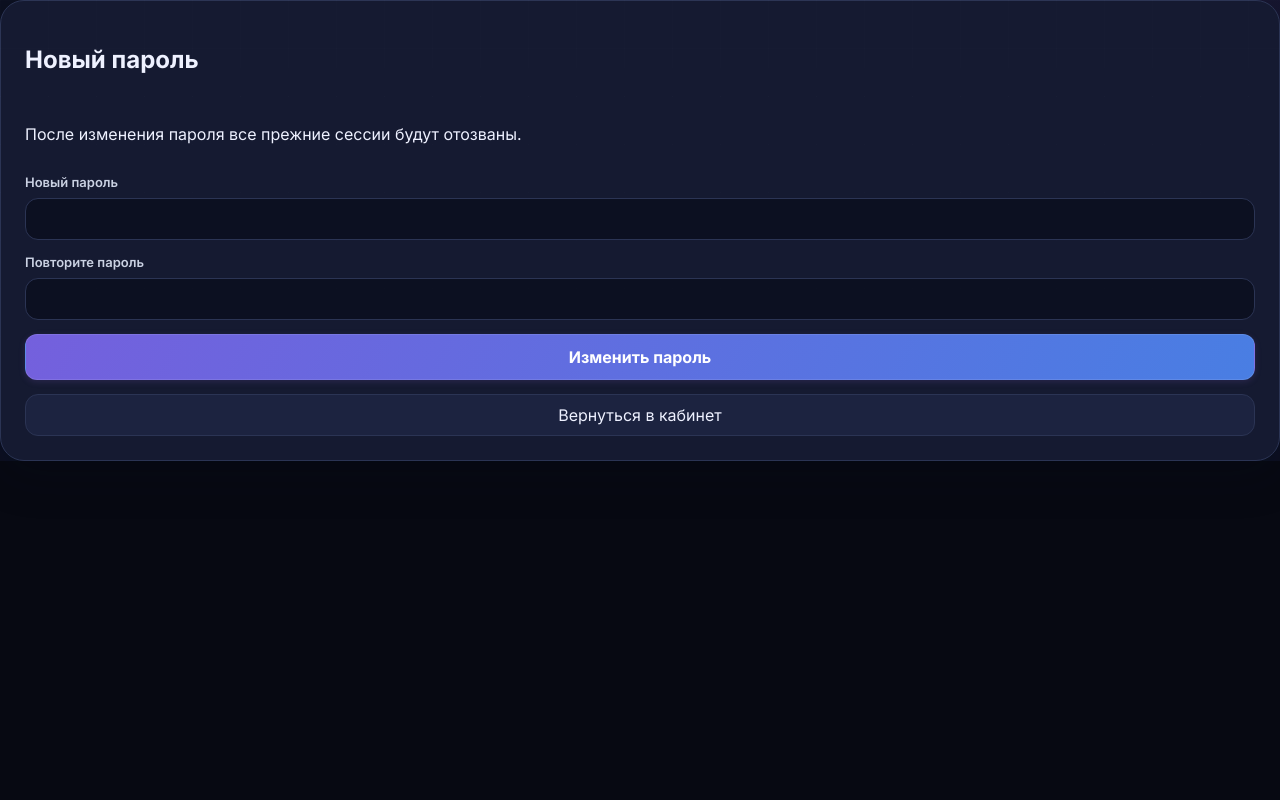
it: blocks mismatched passwords and removes inputs after success
In the password field labelled "Новый пароль": [640, 219] box [25,198,1255,240], type "new-password"
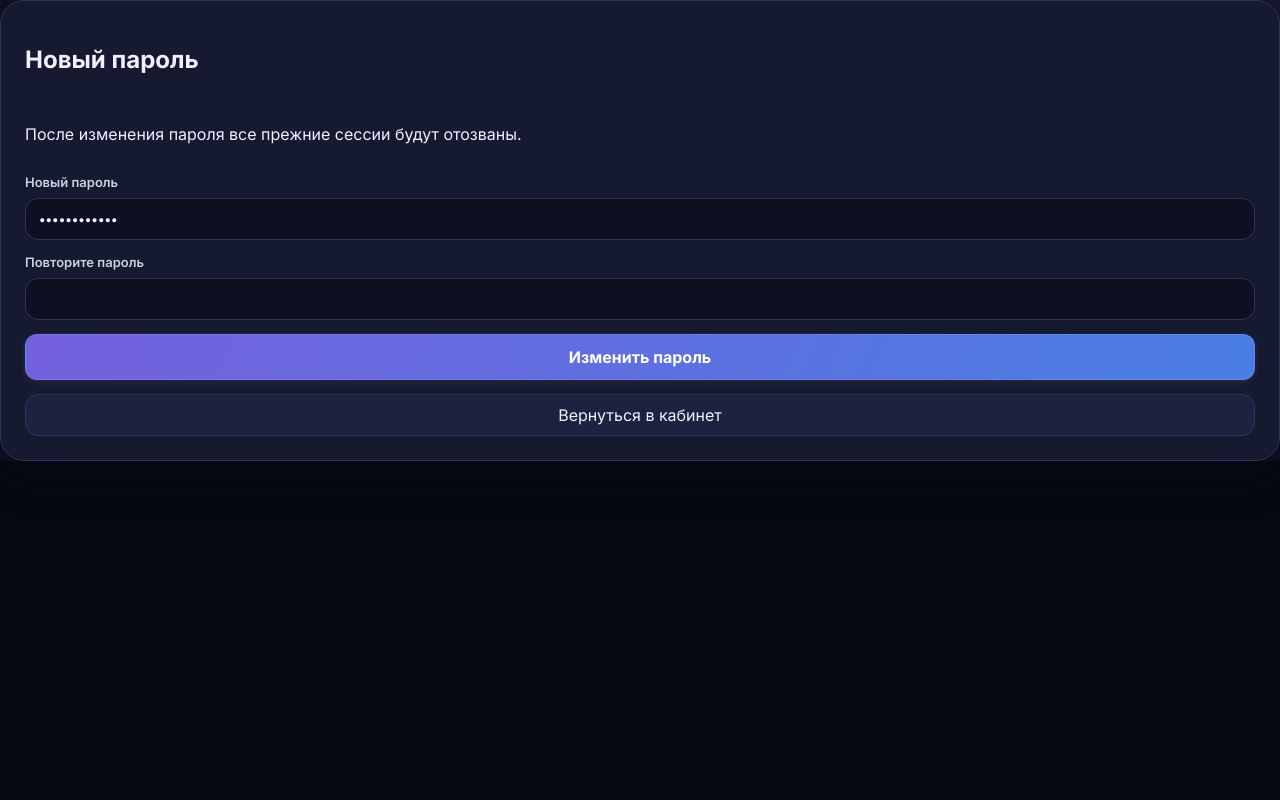
In the password field labelled "Повторите пароль": [640, 299] box [25,278,1255,320], type "other-password"
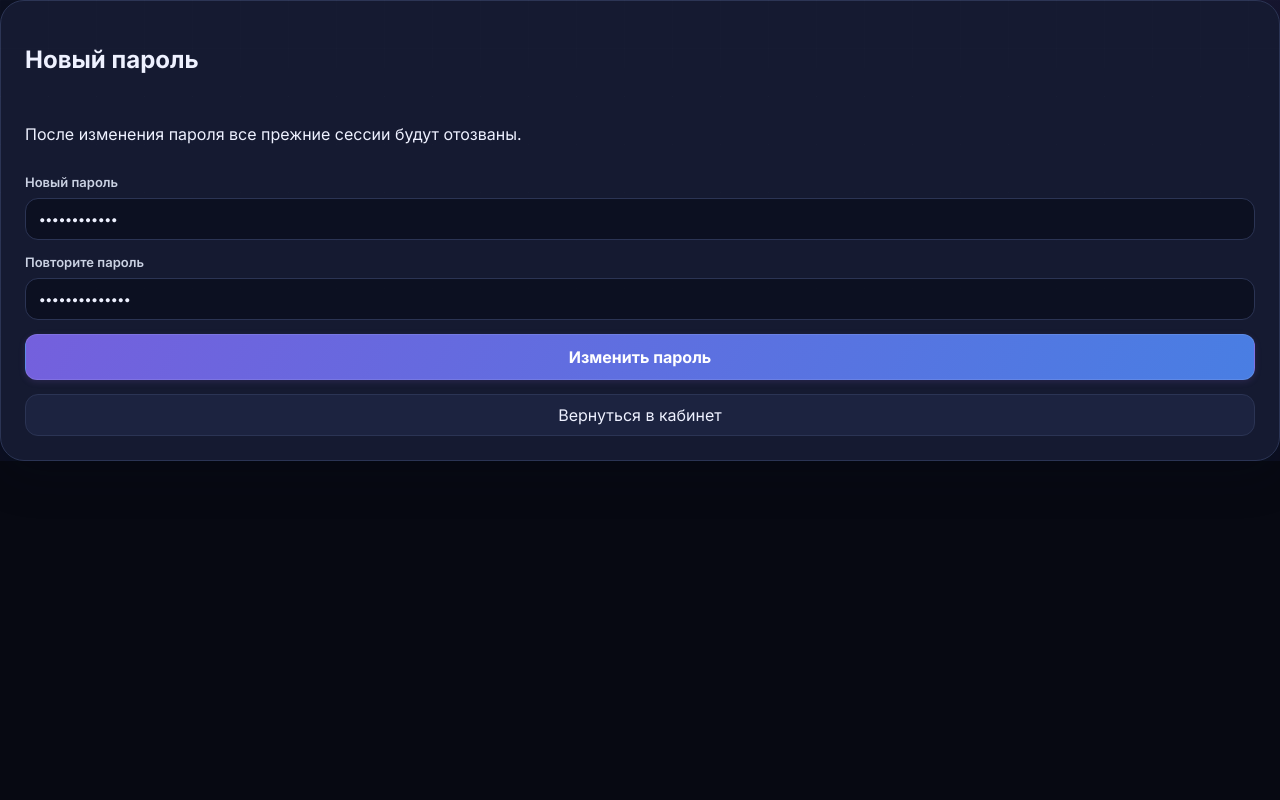
Click the button "Изменить пароль": [640, 357] box [25,334,1255,380]
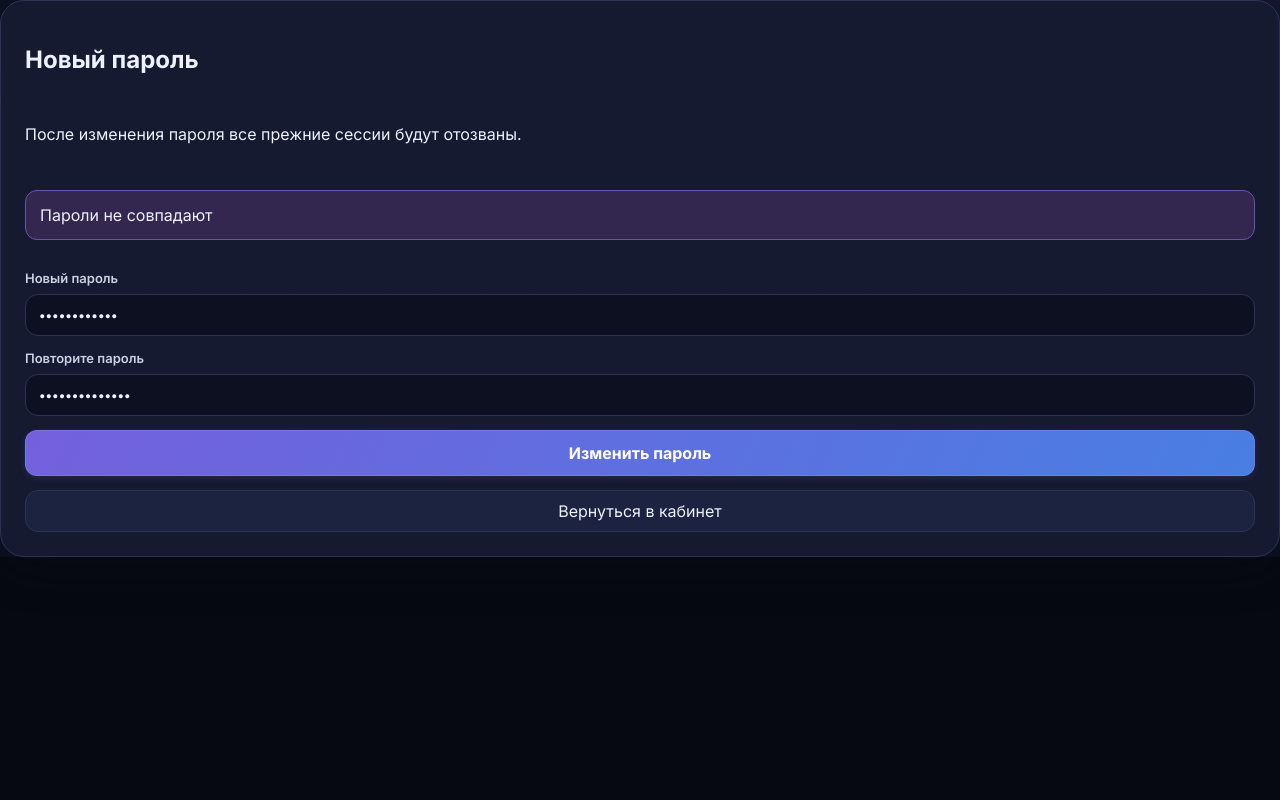
Check: the message reads "Пароли не совпадают", box [40,205,213,225]
In the password field labelled "Повторите пароль": [640, 395] box [25,374,1255,416], type "new-password"
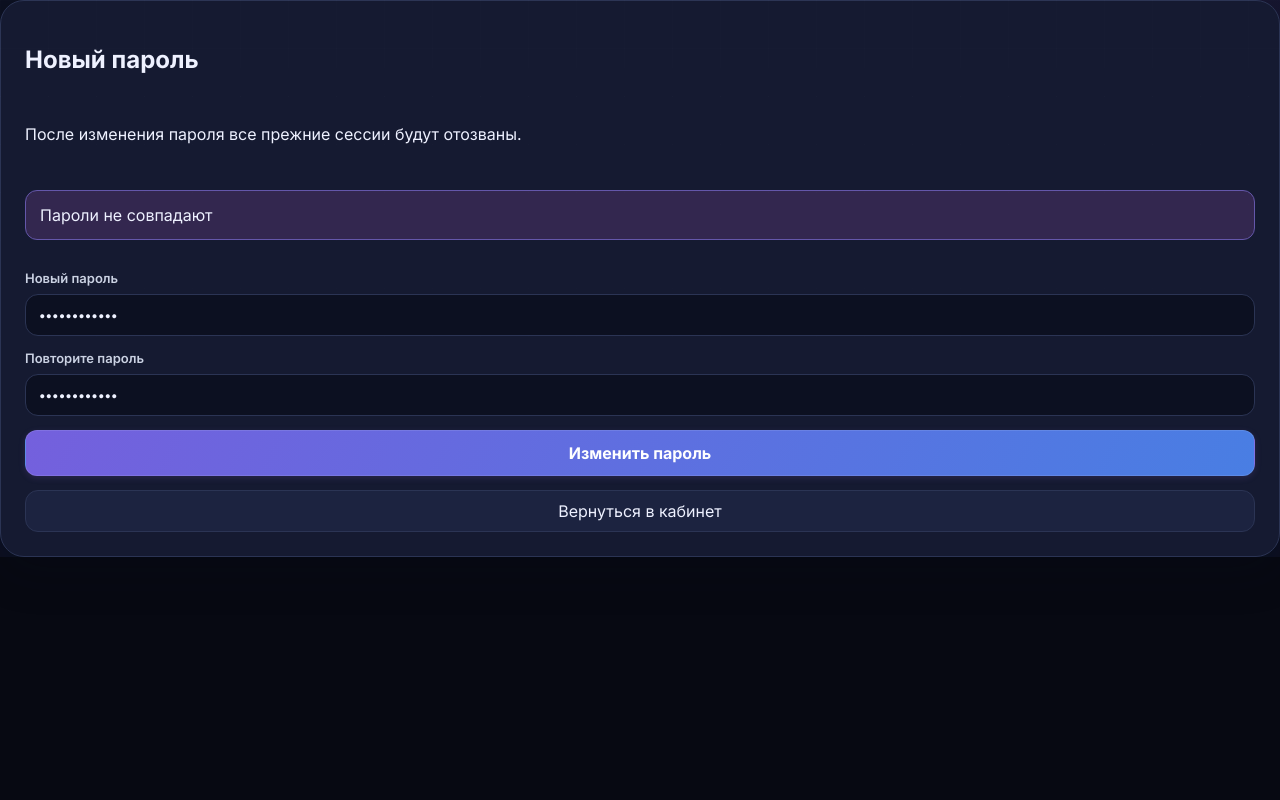
Click the button "Изменить пароль": [640, 453] box [25,430,1255,476]
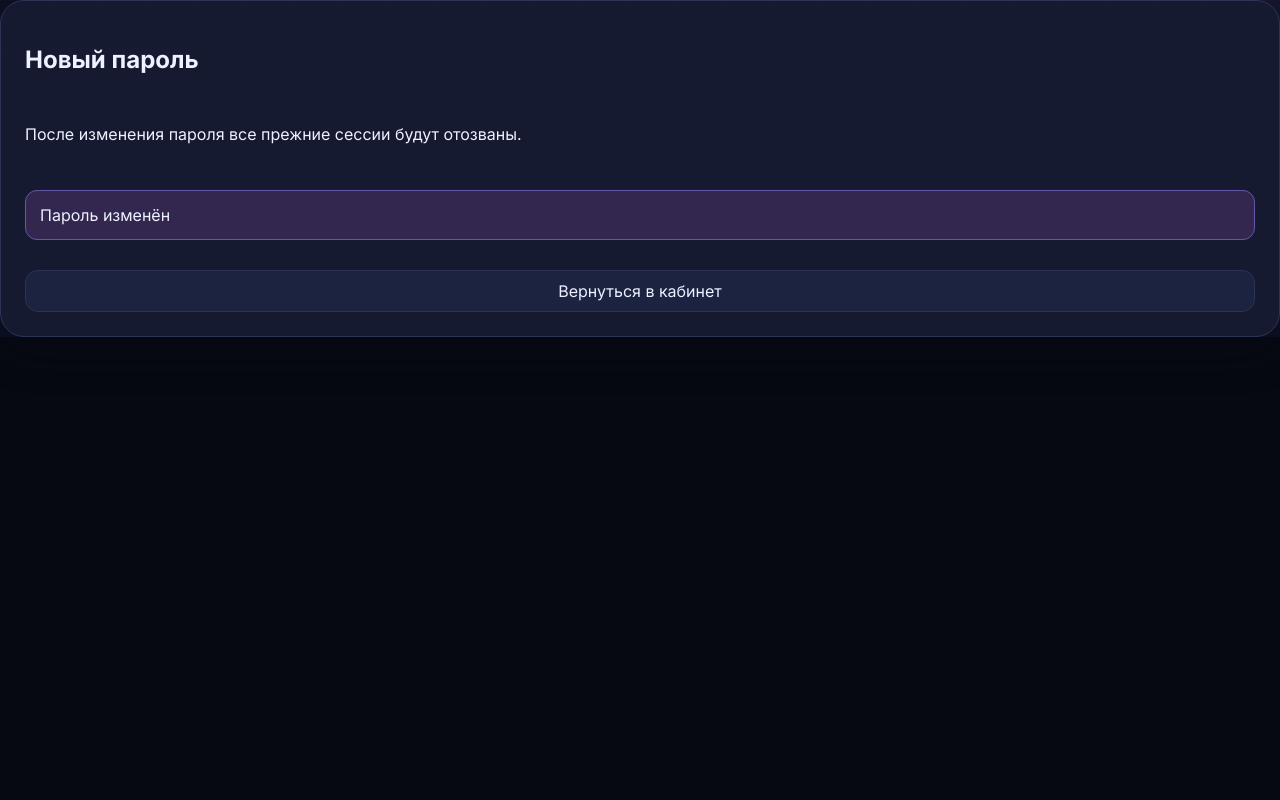
Check: the message reads "Пароль изменён", box [40,205,170,225]
